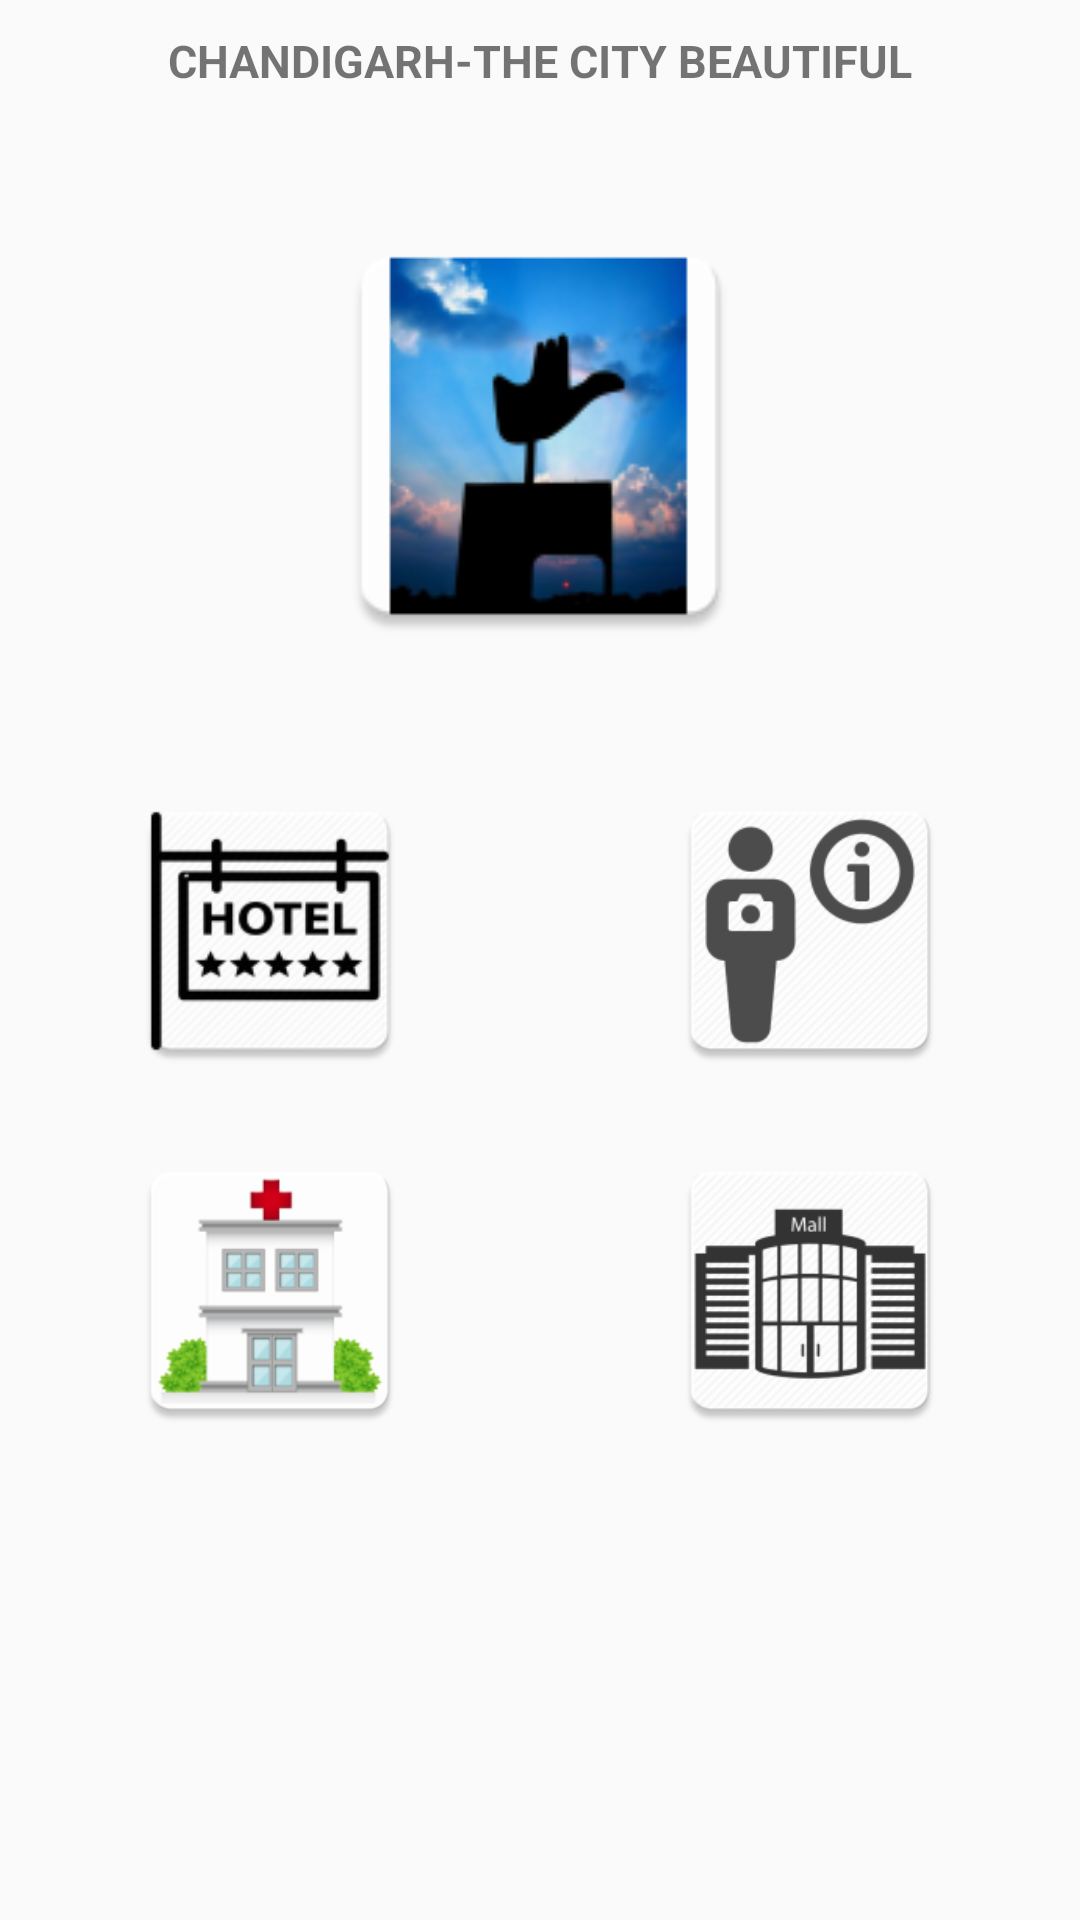

Screen size 1080w x 1920h. Icon name, then its box in pixels as (left=x1, top=y1, right=x2, bottom=y2):
hospital: (left=151, top=1178, right=390, bottom=1417)
places: (left=691, top=818, right=930, bottom=1057)
